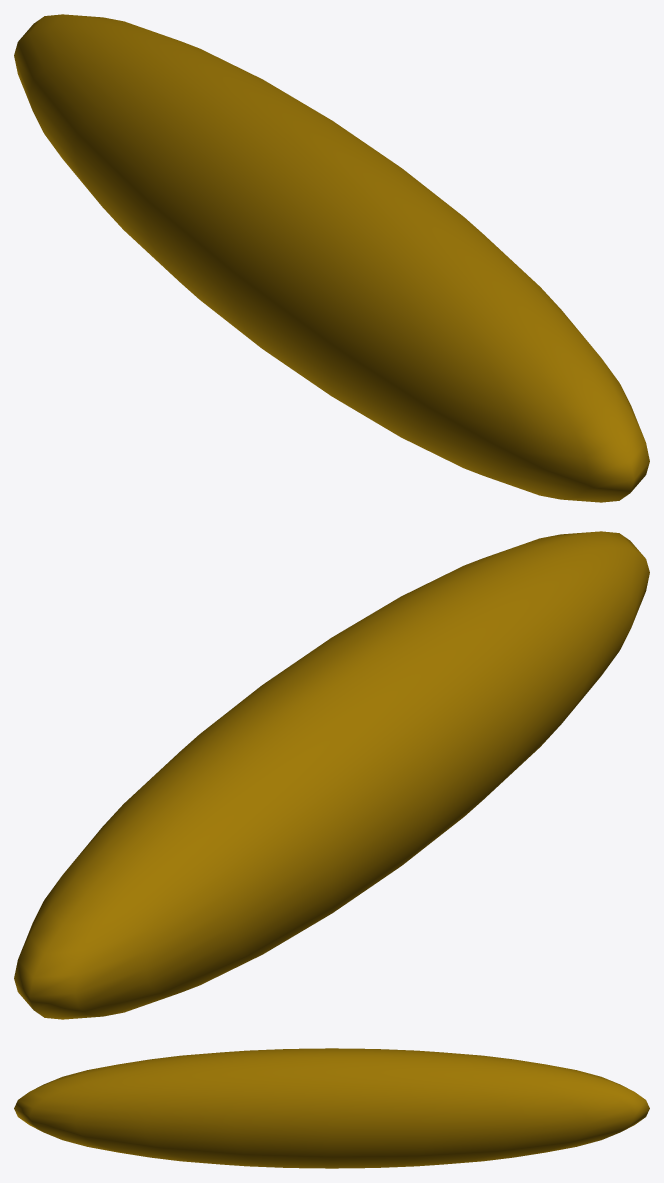
The model's file is Carrot.fbx.
3 renders of one model, top to bottom at view 1: azimuth 30°, elevation 25°; view 2: azimuth 150°, elevation 25°; view 3: azimuth 270°, elevation 25°, orthographic. The views are drawn at different scales.
Visible parts, largest first — view 1: pSphere1; view 2: pSphere1; view 3: pSphere1.
Part boxes in pixels (left/top/right/bottom): pSphere1: left=14, top=14, right=649, bottom=502; pSphere1: left=14, top=531, right=649, bottom=1019; pSphere1: left=14, top=1048, right=649, bottom=1168.
Size of the model in its own units: 2 by 2 by 10.58.
